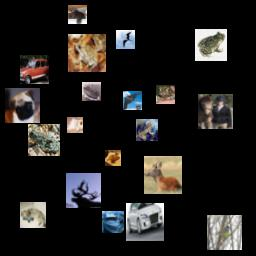airplane: (123, 91, 142, 110)
automobile: (126, 203, 164, 241), (20, 55, 49, 84)
bird: (207, 215, 242, 250), (116, 30, 135, 49)
cat: (20, 202, 46, 228), (68, 5, 87, 24), (105, 150, 121, 166)
deer: (144, 156, 182, 194), (66, 173, 101, 208)
dog: (5, 88, 40, 123), (67, 117, 83, 133)
frog: (68, 34, 106, 72), (195, 29, 227, 61), (28, 124, 60, 156), (136, 119, 158, 141), (156, 85, 175, 104)
ship: (102, 211, 124, 233), (82, 82, 101, 101)
